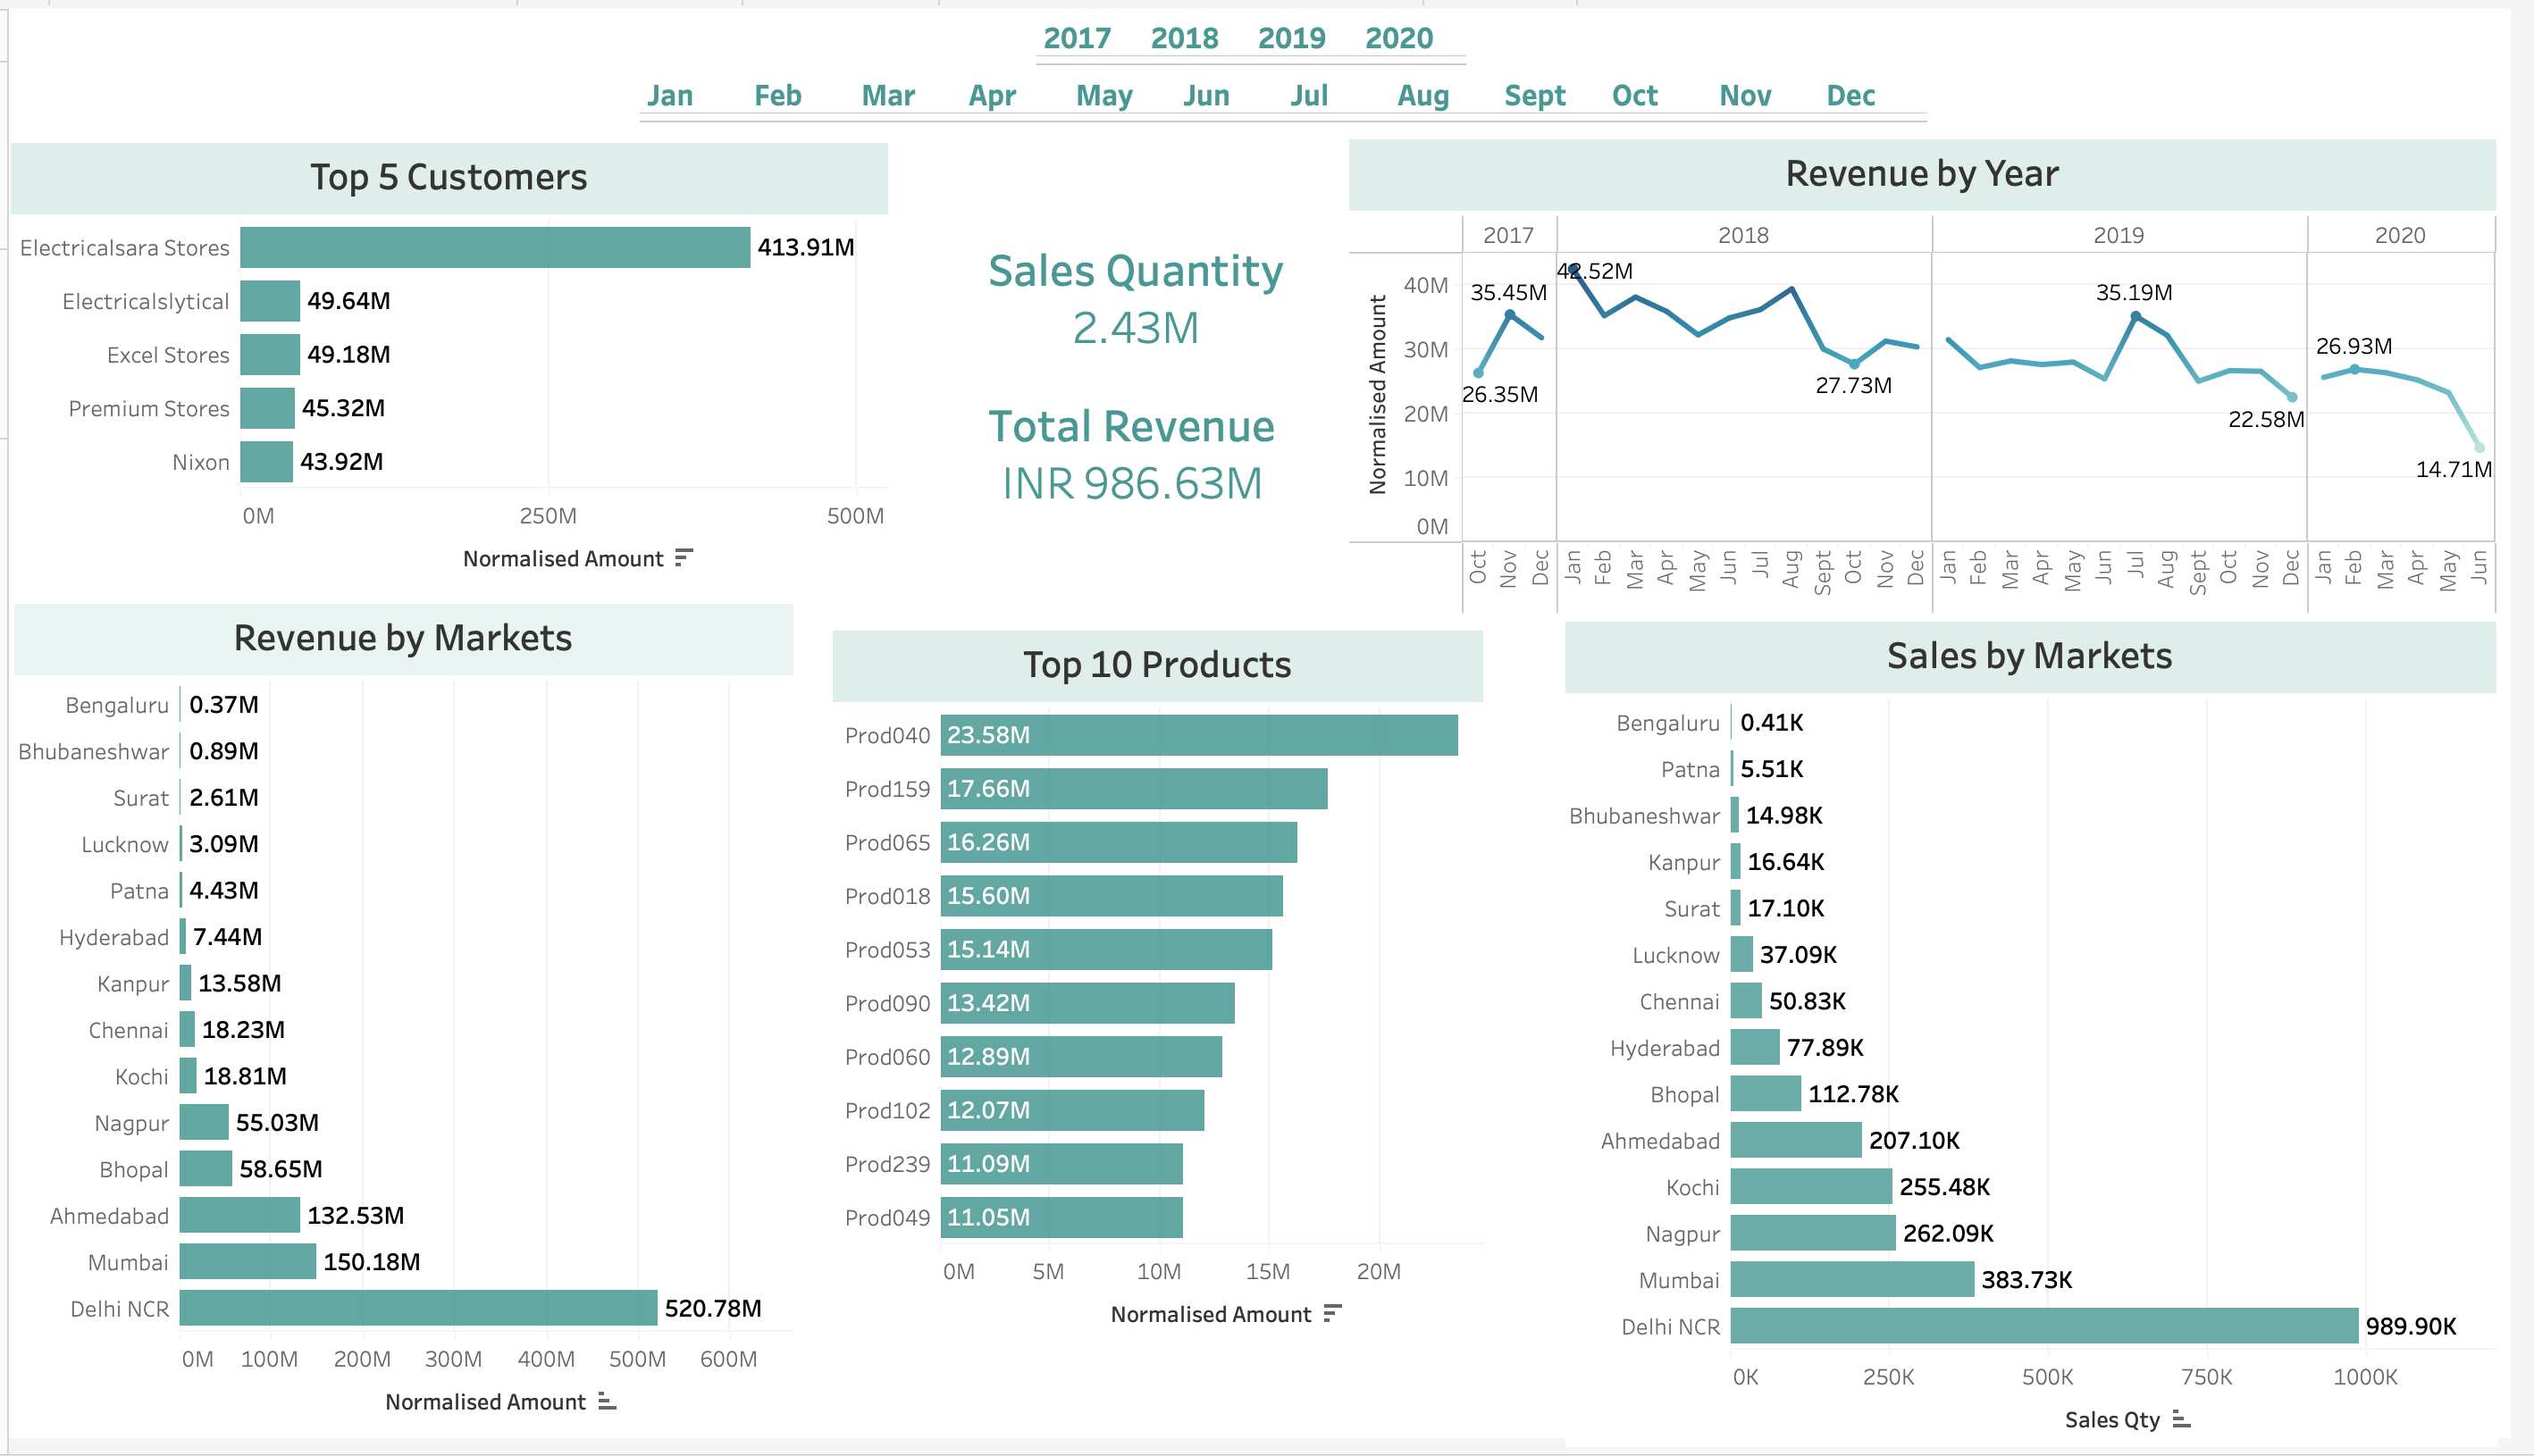

What the dashboard file says about the page in this screenshot:
{"tool":"tableau","page":{"name":"Dashboard - Revenue Analysis","canvas":[1400,800],"ordinal":1},"visuals":[{"type":"worksheet","title":"Year","mark":"Automatic","cols":["cy_date"],"box":[575,6,263,26]},{"type":"worksheet","title":"Month","mark":"Automatic","cols":["cy_date"],"box":[353,38,798,37]},{"type":"worksheet","title":"Revenue by Year","mark":"Automatic","rows":["Calculation_741756994980962304"],"cols":["cy_date","cy_date"],"box":[750,73,642,266]},{"type":"worksheet","title":"Top 5 Customers","mark":"Automatic","rows":["custmer_name"],"cols":["Calculation_741756994980962304"],"box":[1,75,492,250]},{"type":"worksheet","title":"Quantity","mark":"Automatic","box":[534,129,202,70]},{"type":"worksheet","title":"Revenue","mark":"Automatic","box":[529,214,202,76]},{"type":"worksheet","title":"Top 10 Products","mark":"Automatic","rows":["product_code (products)"],"cols":["Calculation_741756994980962304"],"box":[461,348,404,439]}]}

Visuals, with their boxes in screenshot pixels (x1, y1, x2, y2), scaled from the page's 1400x800 canvas onto the 2534x1456 screenshot:
"Year" worksheet: [x1=1041, y1=11, x2=1517, y2=58]
"Month" worksheet: [x1=639, y1=69, x2=2084, y2=137]
"Revenue by Year" worksheet: [x1=1357, y1=133, x2=2520, y2=617]
"Top 5 Customers" worksheet: [x1=2, y1=137, x2=893, y2=591]
"Quantity" worksheet: [x1=967, y1=235, x2=1332, y2=362]
"Revenue" worksheet: [x1=958, y1=389, x2=1323, y2=528]
"Top 10 Products" worksheet: [x1=835, y1=633, x2=1565, y2=1433]
